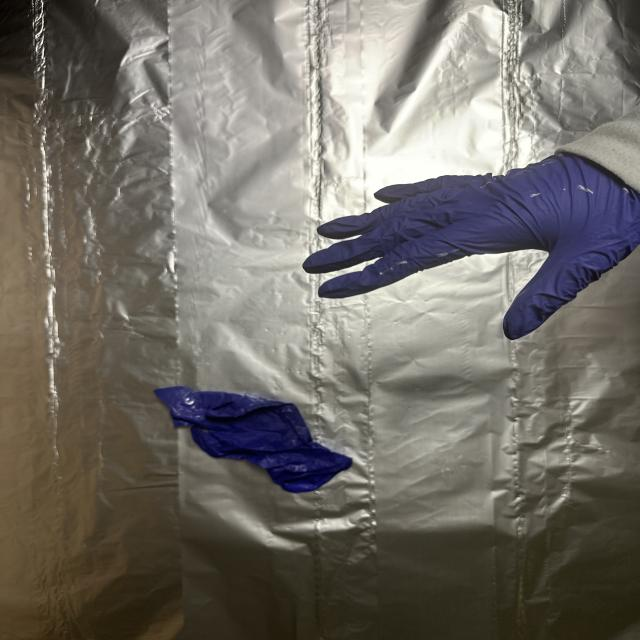gloves_contaminated: (303, 152, 640, 339)
